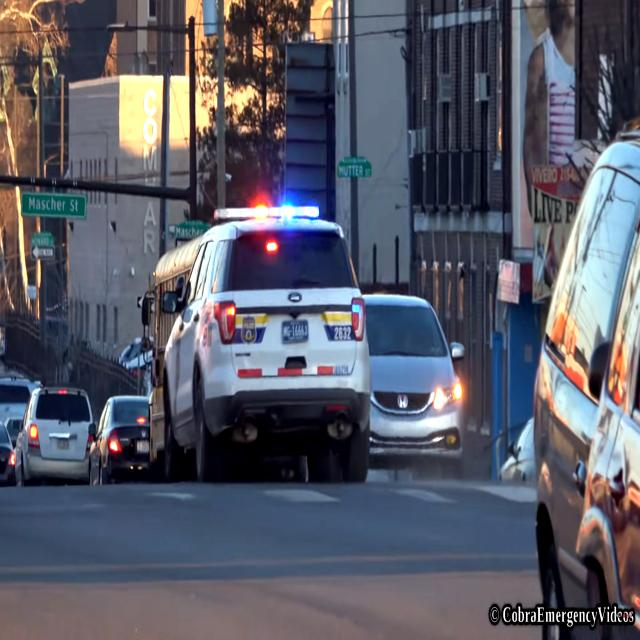emergency-vehicles: (151, 187, 378, 491)
